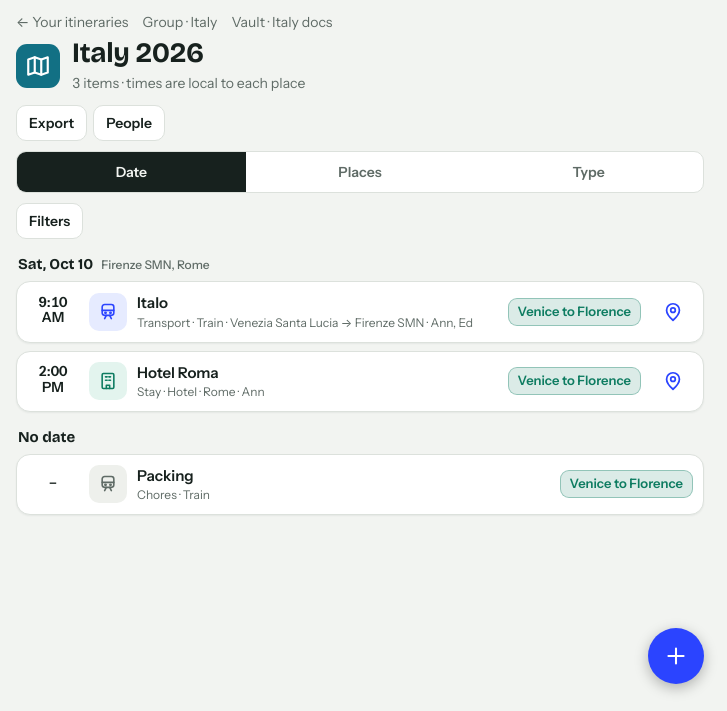
Test case: itinerary timeline › arranges by type and names a custom category
Step 1. Click the button "Type" → (589, 172), box [474,152,703,192]
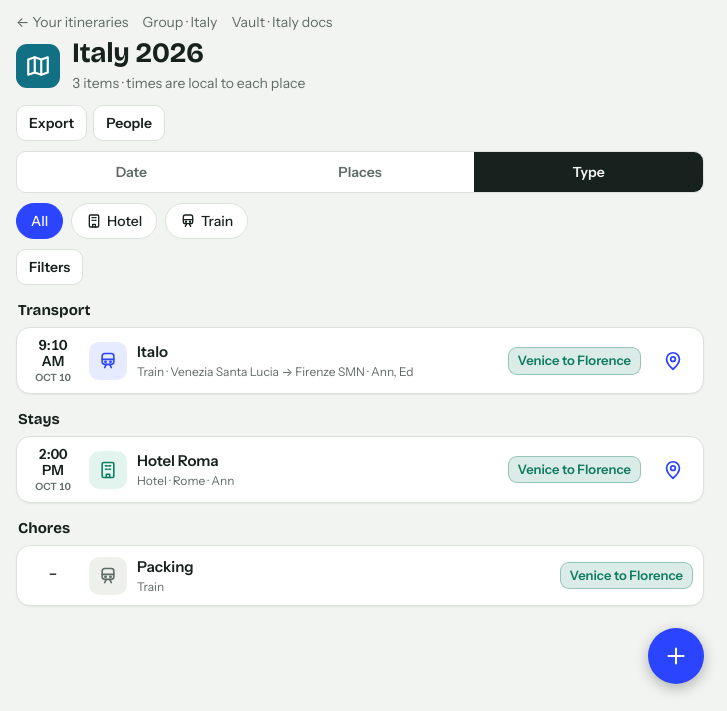
Check: the element "Chores" is shown, box [16,519,704,606]
Check: the element "Stays" is shown, box [16,410,704,503]
